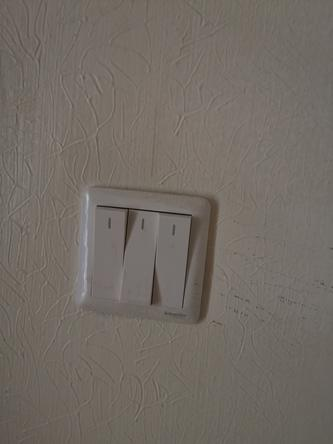switch: (86, 200, 128, 309), (152, 210, 194, 310), (121, 205, 159, 309)
